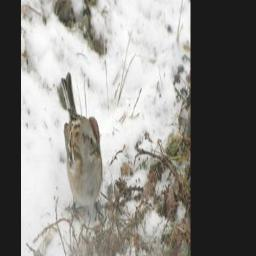Sparrow: (58, 69, 106, 224)
